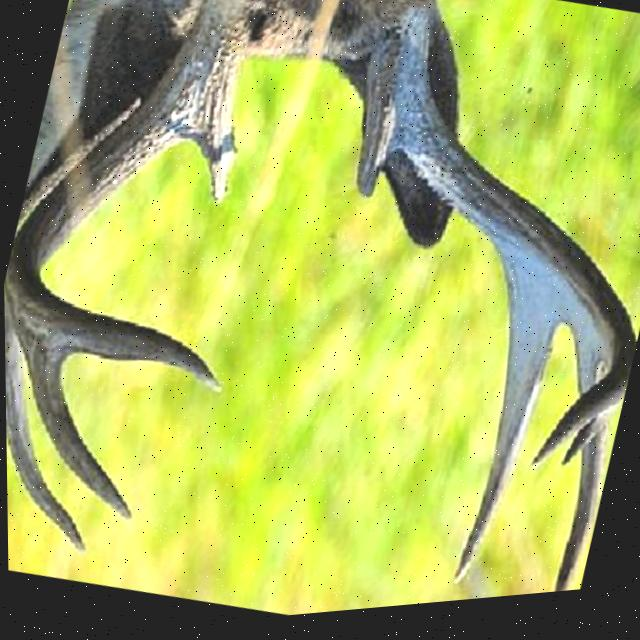L-F: (3, 0, 262, 397)
L-G1: (189, 106, 238, 206)
L-G3: (17, 341, 132, 523)
R-F: (371, 13, 636, 477)
R-G1: (355, 70, 396, 205)
R-G2: (451, 287, 556, 592)
